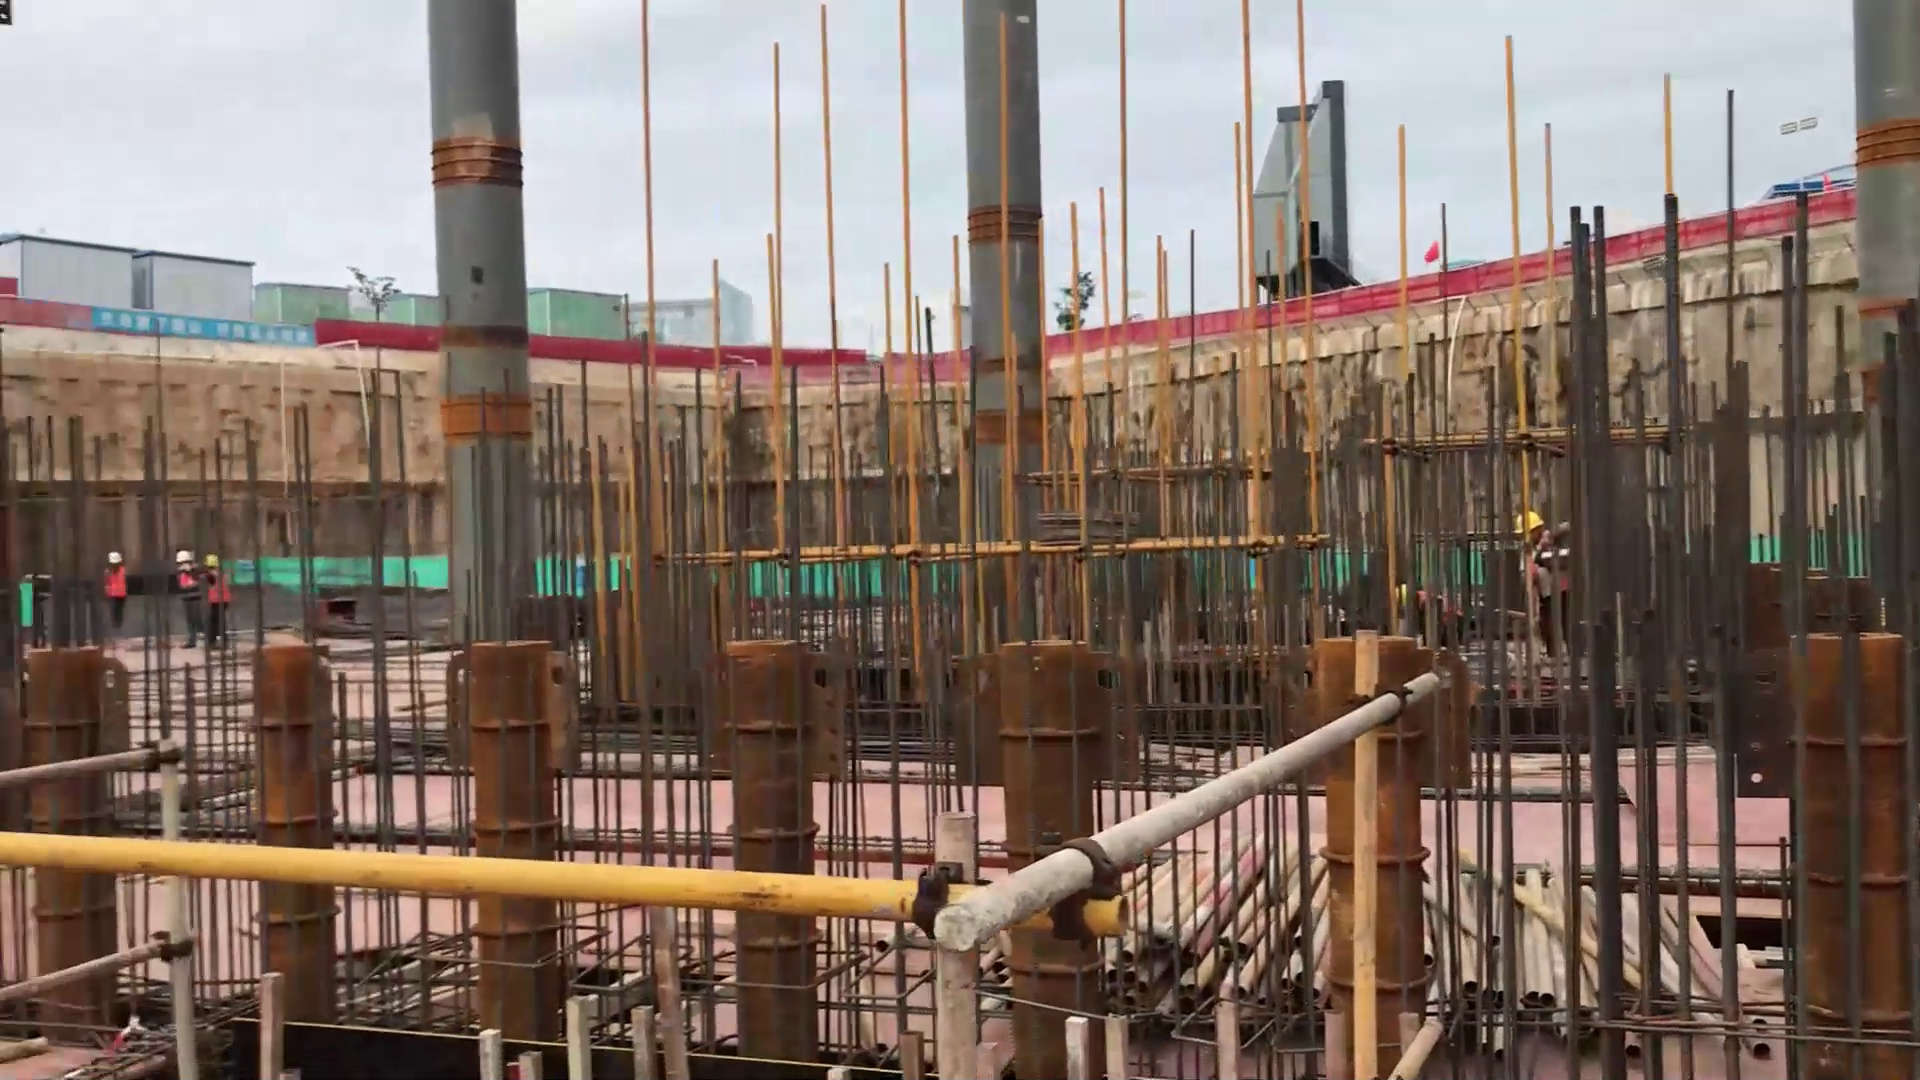helmet: (1511, 512, 1544, 535), (175, 550, 195, 565), (106, 553, 123, 565), (204, 555, 221, 567)
person: (1512, 511, 1574, 661), (173, 547, 205, 648), (203, 554, 232, 651), (105, 551, 128, 631)
vest: (206, 571, 231, 604), (105, 564, 126, 598), (178, 570, 196, 588)
